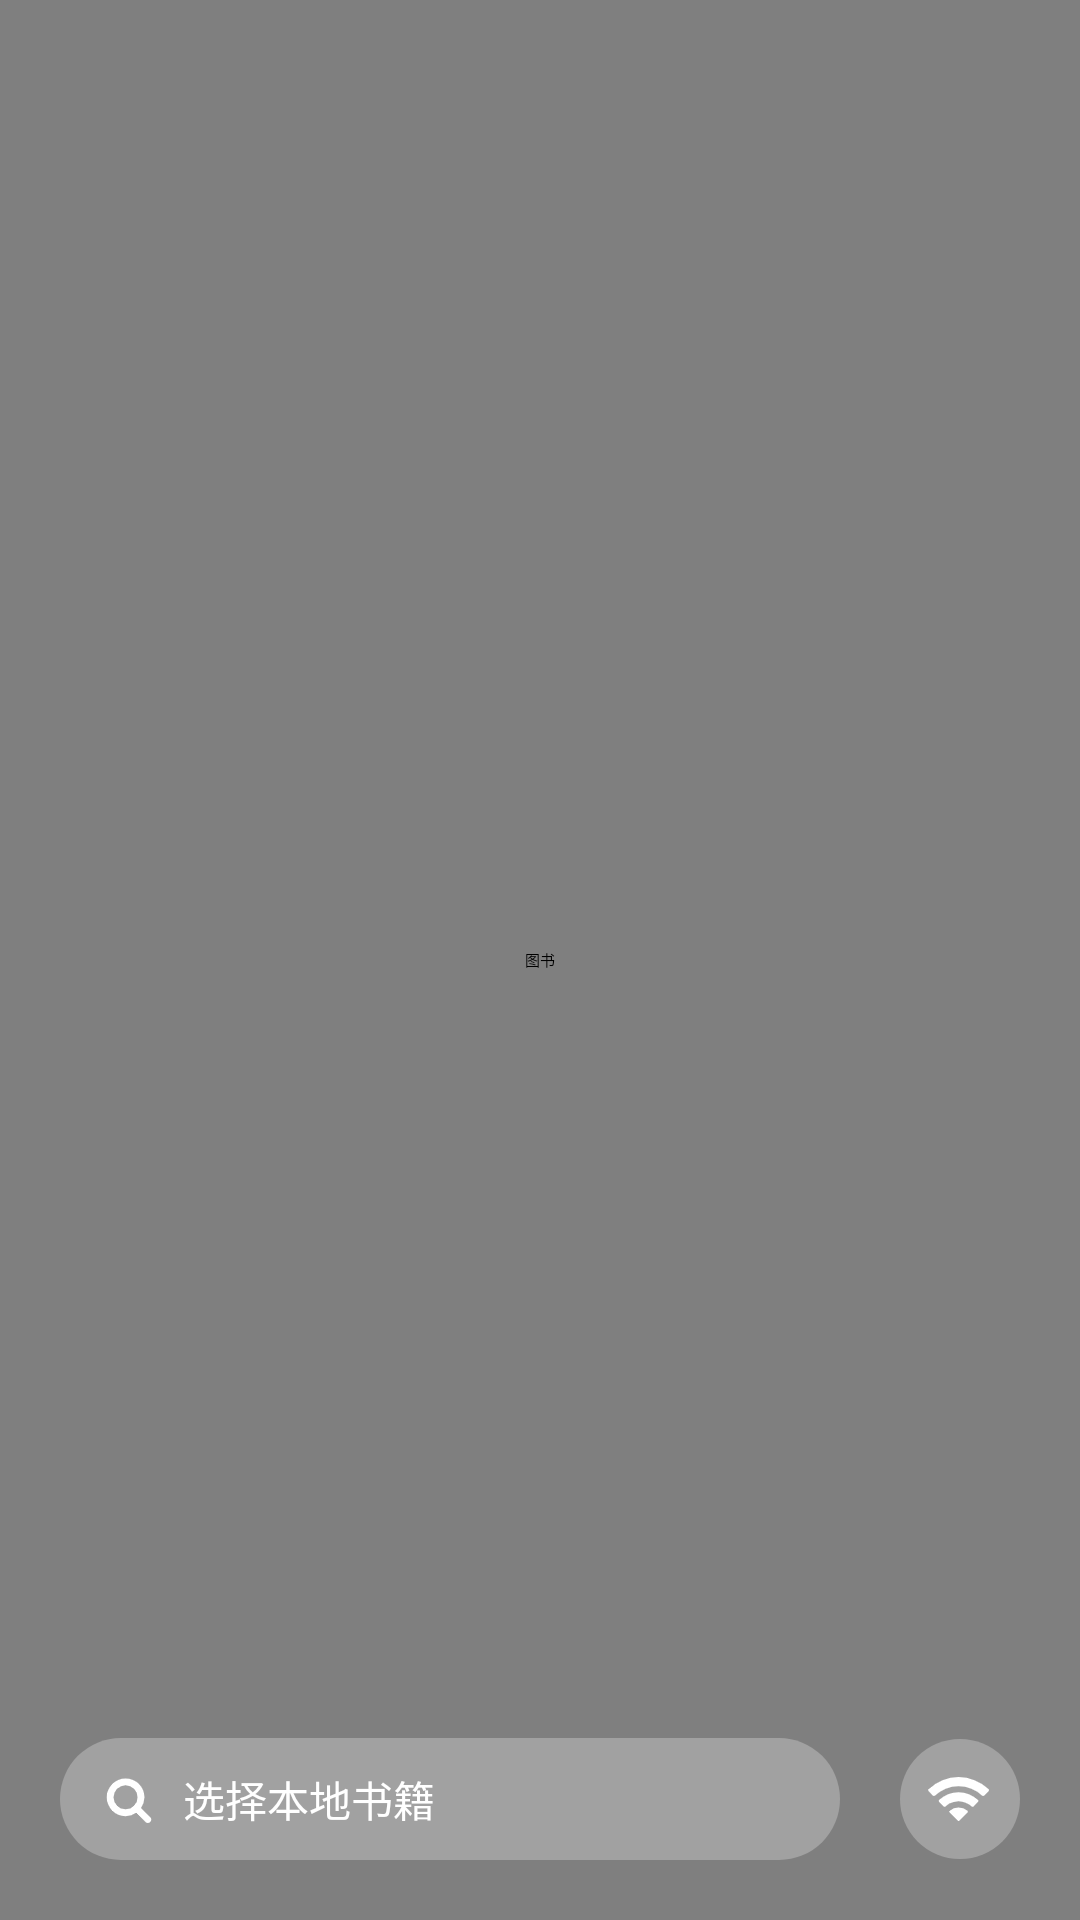

Screen size 1080px x 1920px. Icon name, then its box in pixels as (x1, y1, x2, y2):
wifi: (900, 1739, 1020, 1859)
